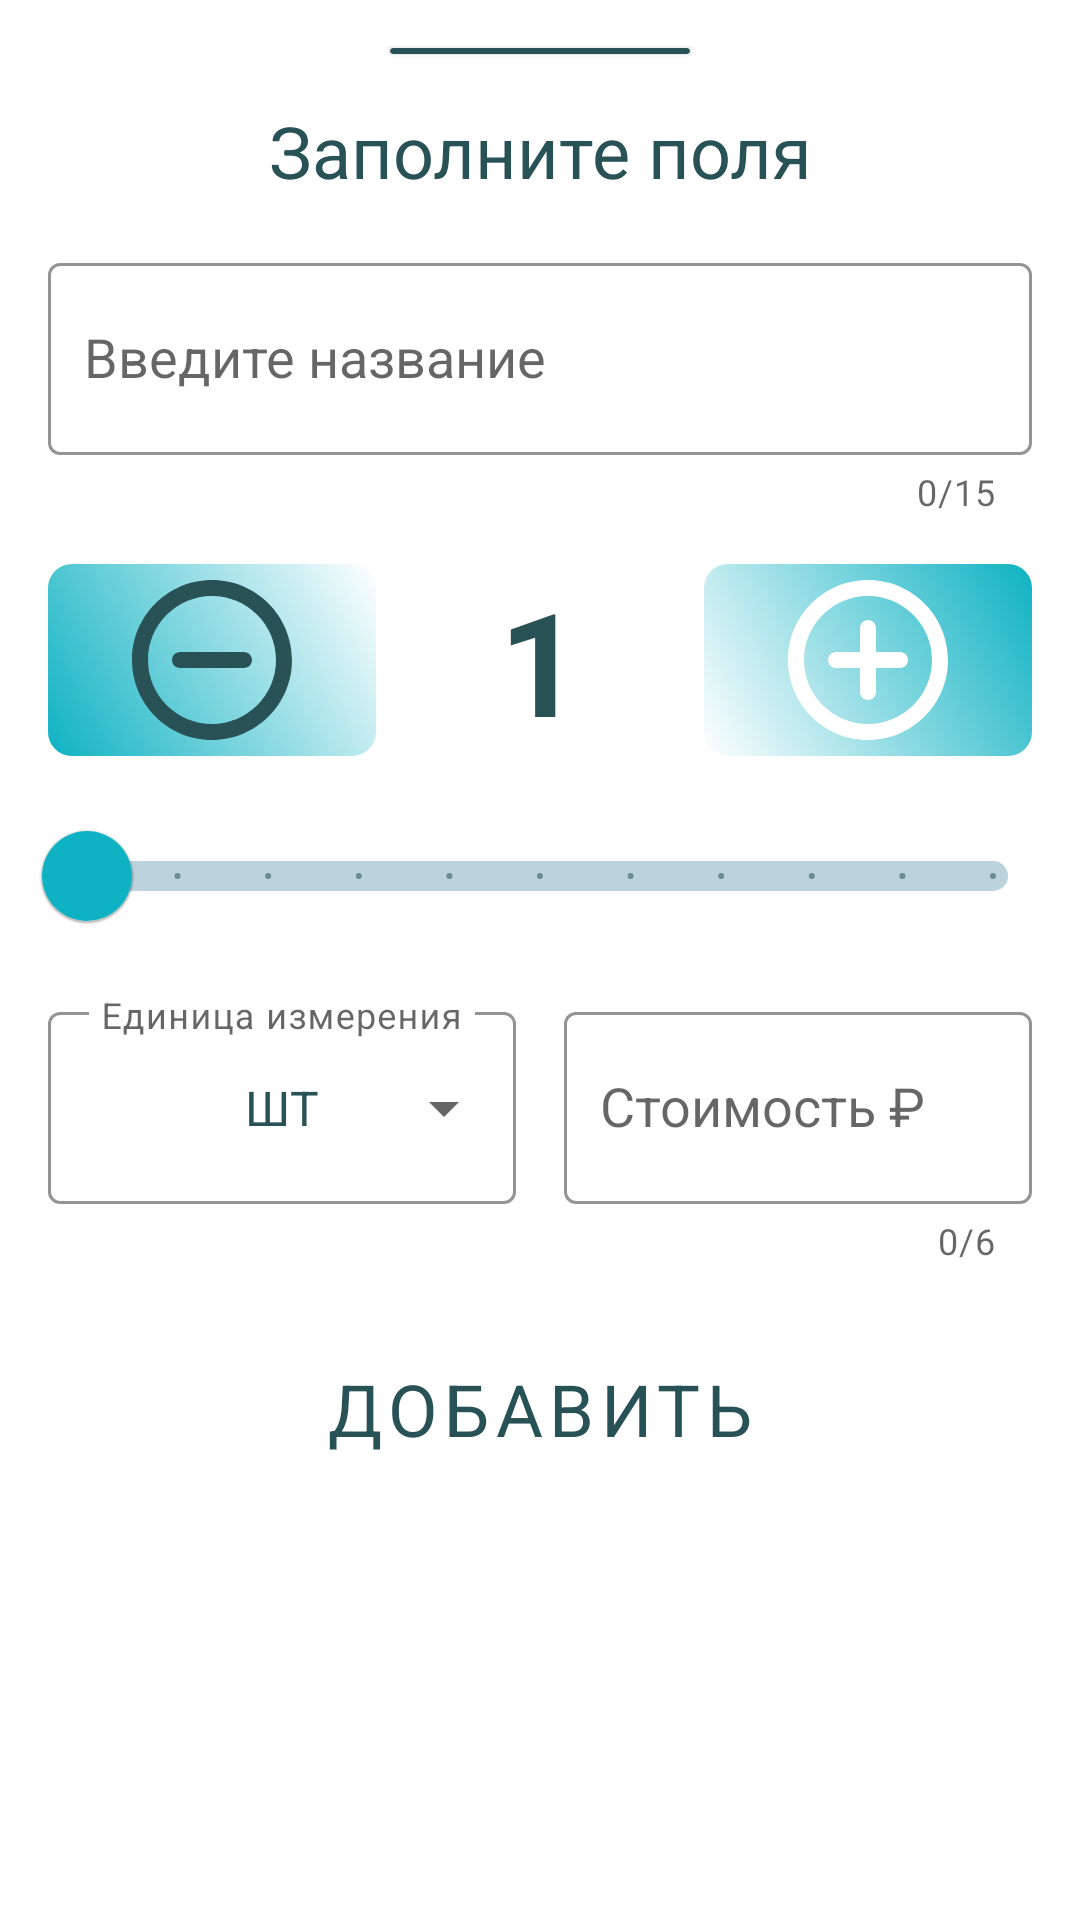

Icons on this 1080*1920 Android screen, each with its box as [x1=x1, y1=y1, x2=x2, y2=y2]:
minus: [x1=48, y1=564, x2=376, y2=756]
plus: [x1=704, y1=564, x2=1032, y2=756]
